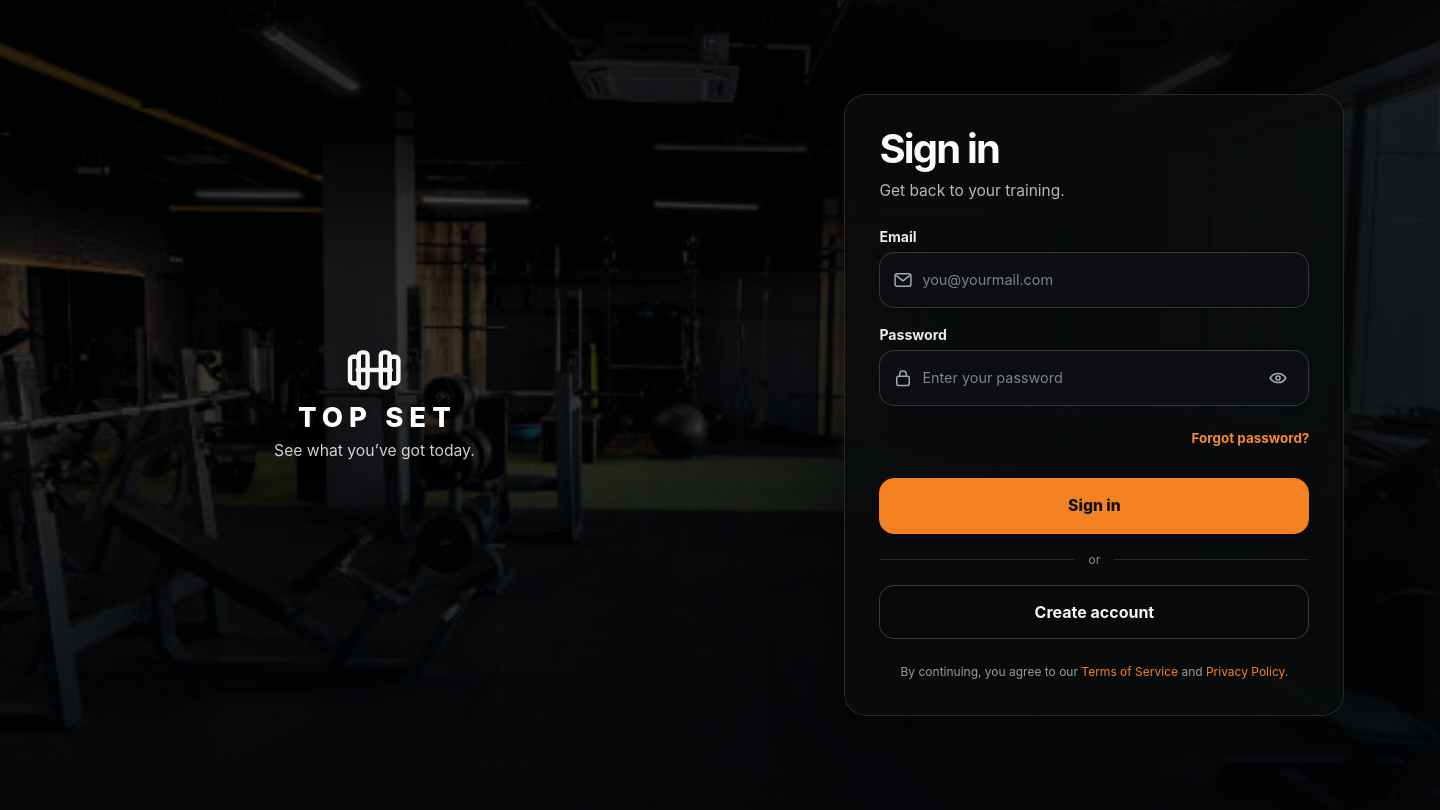
Test: AuthScreen › moves between auth states without changing routes
Check: the heading "Sign in" is shown, box [879,124,999,173]
Click the button with aria-label "Create an account": point(1094, 612) [879,585,1309,639]
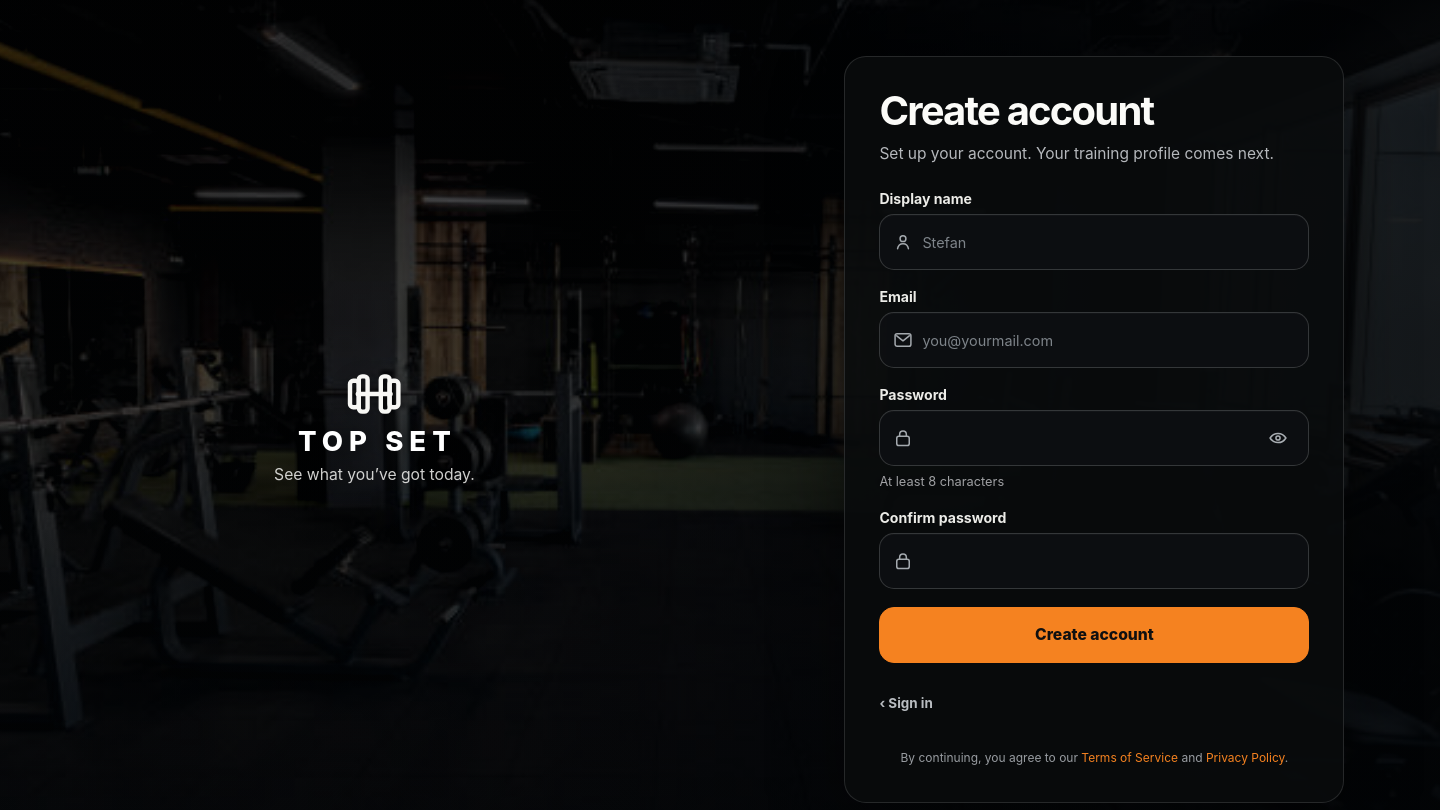
Check: the heading "Create account" is shown, box [879,86,1153,135]
Click the button with aria-label "Back to sign in": point(906, 703) [879,681,933,725]
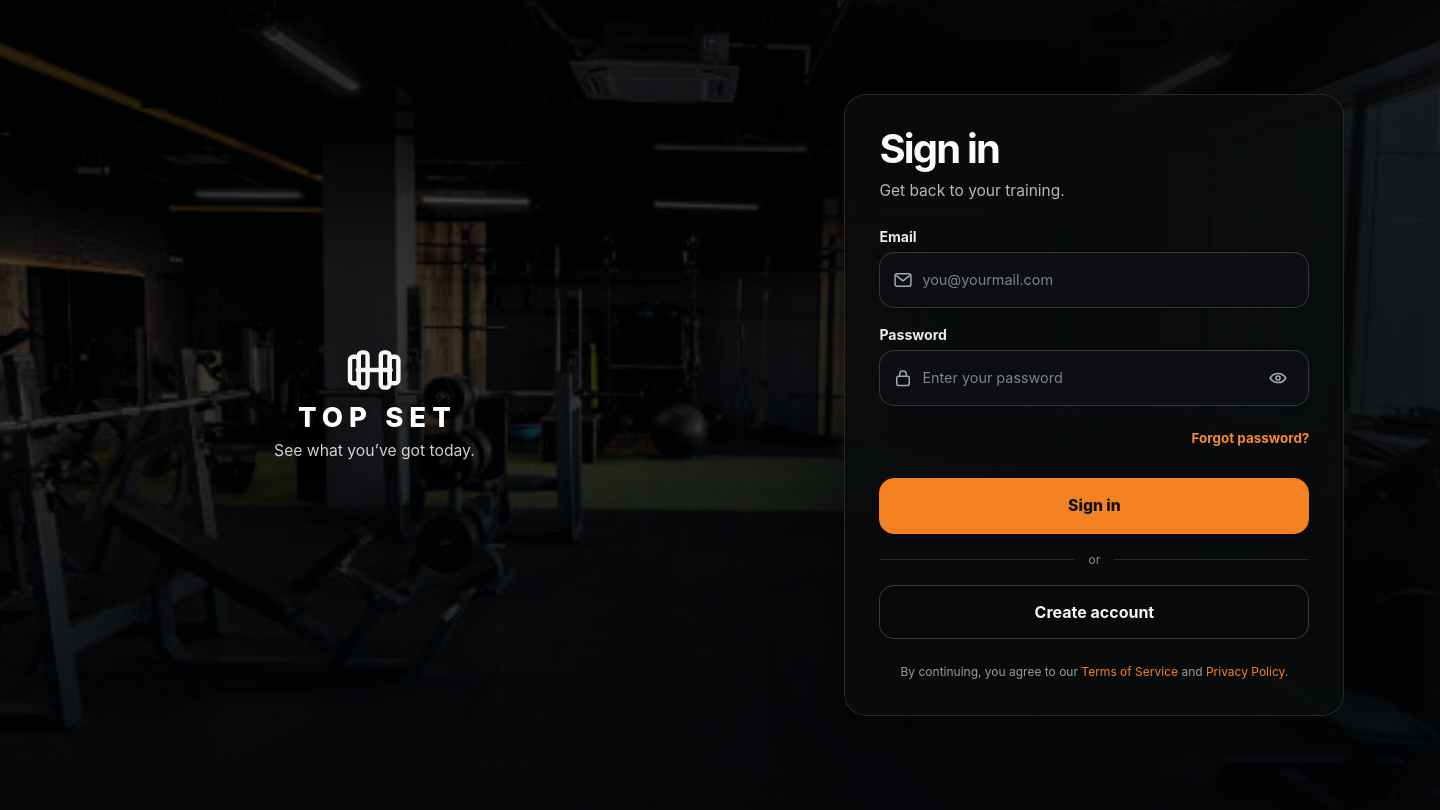
Click the button "Forgot password?": point(1250, 438) [1192,416,1309,460]
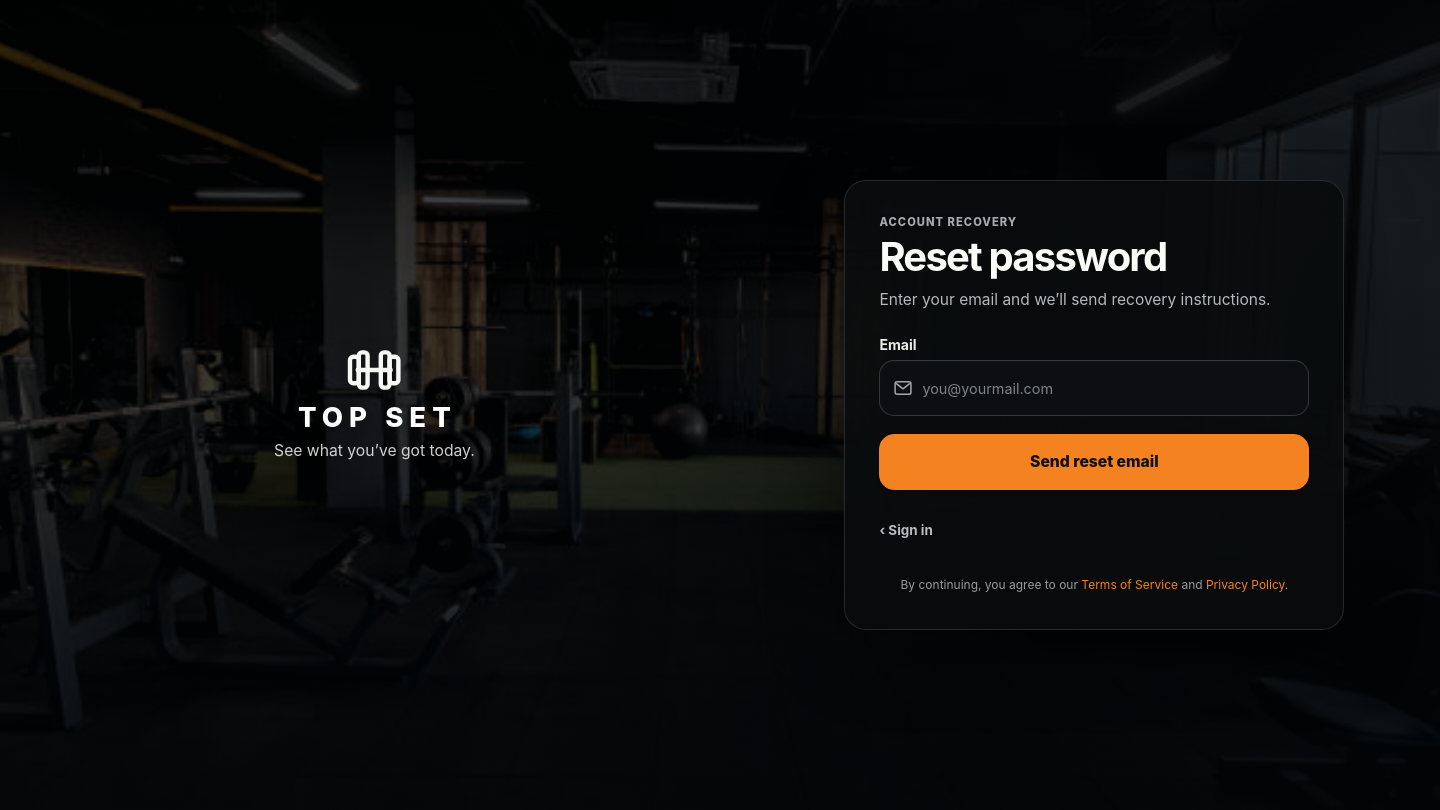
Check: the heading "Reset password" is shown, box [879,232,1166,281]
